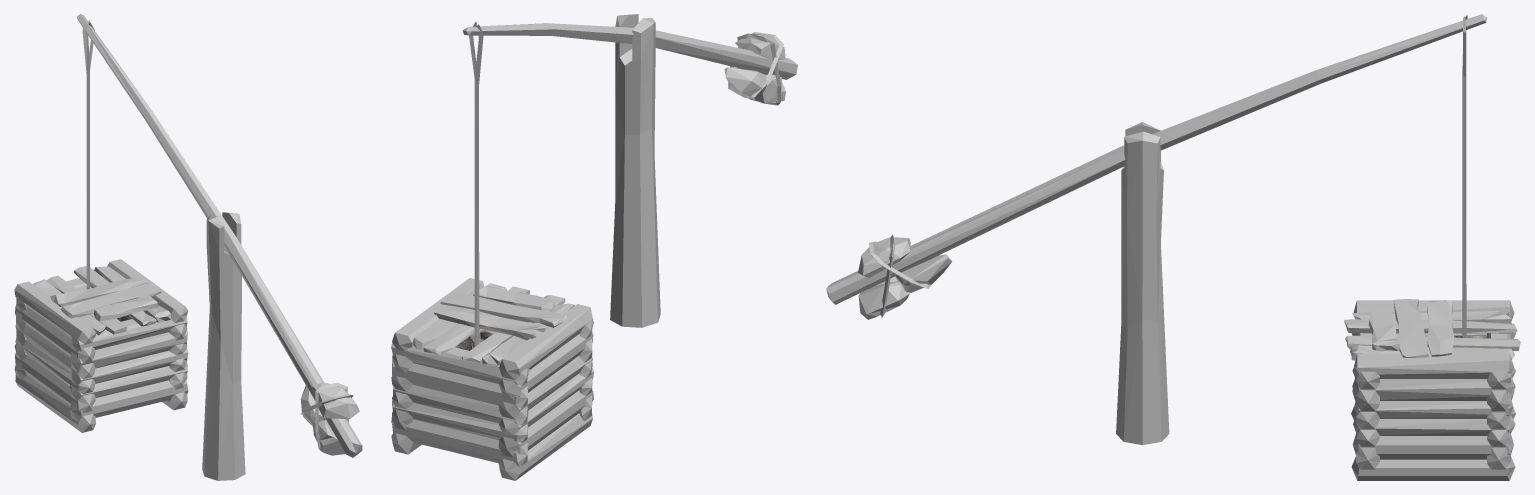
File: Well_LOD1.fbx
3 renders of one model, left to right at view 1: azimuth 30°, elevation 25°; view 2: azimuth 150°, elevation 25°; view 3: azimuth 270°, elevation 25°, orthographic. The views are drawn at different scales.
Parts seen in each view (by area): view 1: Wood, General; view 2: Wood, General; view 3: Wood, General.
Part boxes in pixels (<box>): Wood: <box>14,14,362,480</box>; General: <box>82,20,359,455</box>; Wood: <box>391,14,797,480</box>; General: <box>469,22,785,346</box>; Wood: <box>826,14,1520,480</box>; General: <box>858,15,1467,337</box>.
Bounding box in the file's own units: 211 × 914 × 634.
